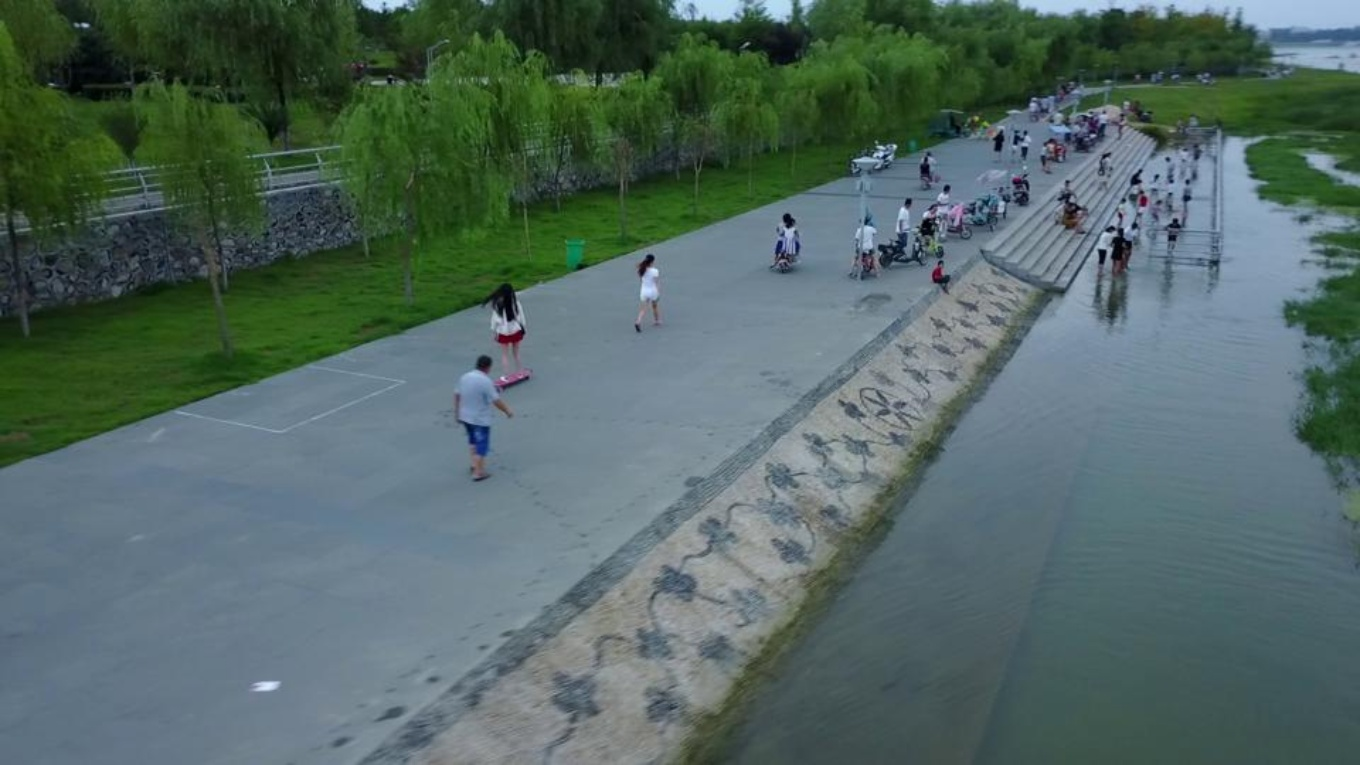awning-tricycle: (921, 106, 968, 138)
ignored regions: (924, 38, 1304, 104)
motor: (875, 223, 927, 267), (955, 192, 999, 230), (968, 184, 1011, 219), (839, 147, 880, 178), (910, 225, 947, 259), (1006, 164, 1030, 208), (869, 137, 899, 171), (855, 235, 875, 284), (774, 235, 794, 277)
pedestrian: (447, 348, 514, 489), (480, 277, 528, 382), (624, 250, 668, 338), (1090, 220, 1114, 276), (1115, 220, 1137, 270), (1108, 226, 1128, 276), (933, 182, 952, 230), (1162, 215, 1182, 254), (988, 126, 1006, 164), (1178, 177, 1195, 216), (1095, 148, 1111, 189), (1005, 126, 1022, 164), (1018, 128, 1032, 165), (1042, 137, 1056, 174), (1094, 109, 1110, 140), (1161, 155, 1176, 188), (1134, 188, 1146, 226), (1146, 171, 1161, 201), (1149, 195, 1163, 227), (1162, 177, 1176, 206), (1039, 138, 1050, 174), (1112, 195, 1125, 225), (1190, 143, 1203, 171), (1176, 148, 1189, 175), (1114, 111, 1125, 138)
people: (845, 213, 879, 280), (764, 208, 800, 270), (890, 193, 914, 260), (918, 201, 941, 247), (1059, 199, 1087, 236), (928, 257, 952, 295), (780, 218, 798, 266), (916, 148, 937, 182), (1056, 177, 1078, 205), (916, 155, 933, 186), (1125, 165, 1145, 191)
